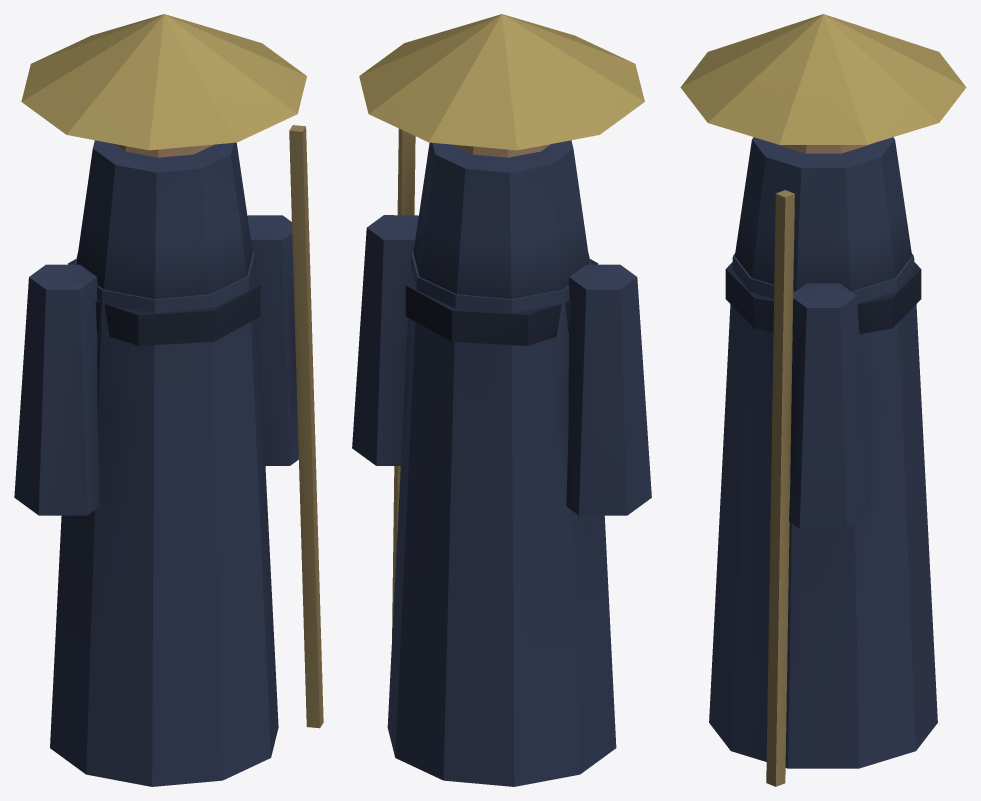
The model's file is walker.glb.
The picture shows the model from 3 angles, left to right: view 1: azimuth 30°, elevation 25°; view 2: azimuth 150°, elevation 25°; view 3: azimuth 270°, elevation 25°; orthographic projection. The views are drawn at different scales.
Visible parts, largest first — view 1: base; view 2: base; view 3: base.
Part boxes in pixels (left/top/right/bottom): base: left=14, top=14, right=323, bottom=786; base: left=352, top=14, right=651, bottom=786; base: left=680, top=14, right=966, bottom=786.
Size of the model in its own units: 0.6533 by 1.64 by 0.6.
